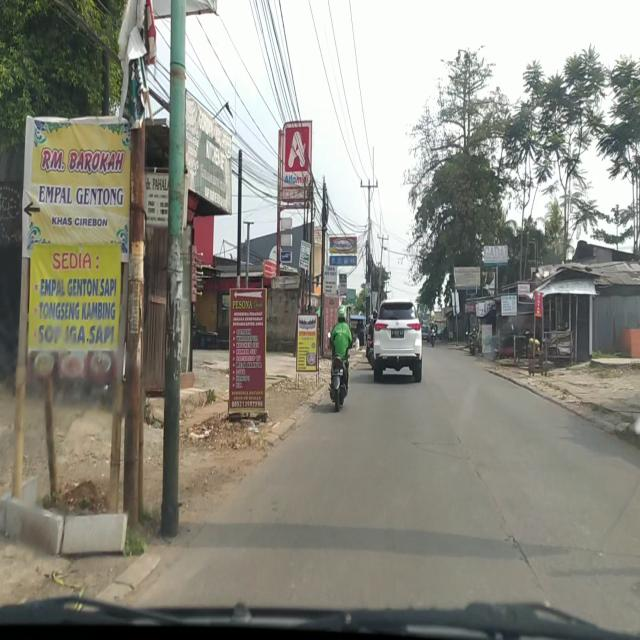Sewer Cover: (413, 442, 468, 459), (411, 439, 460, 446)
